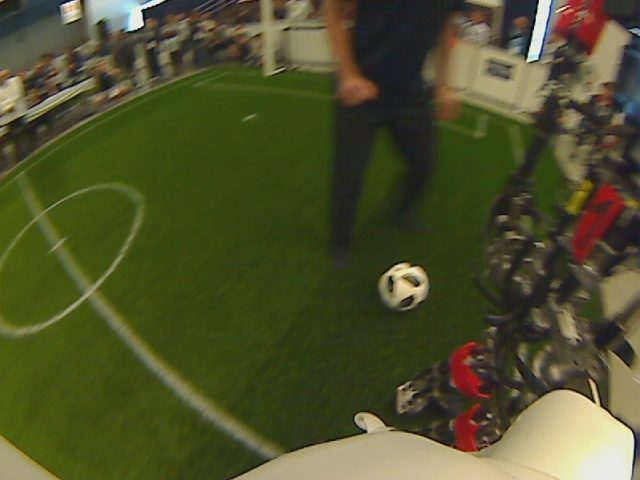ball: (375, 262, 429, 311)
